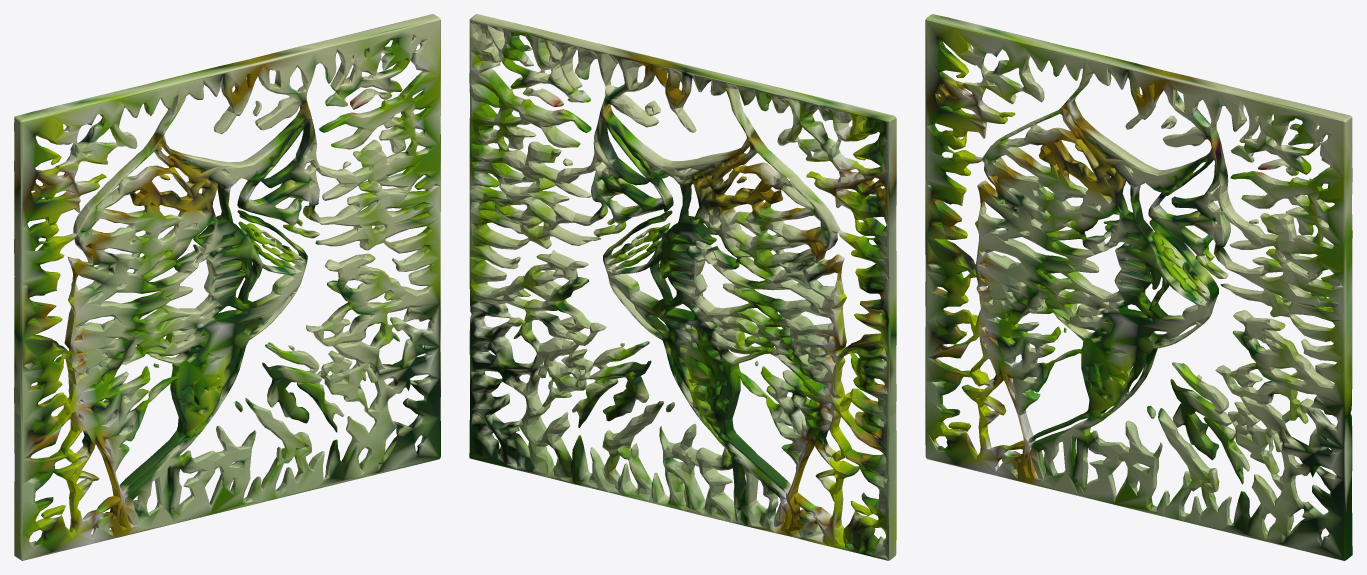
The model's file is mummy.glb.
The picture shows the model from 3 angles, left to right: view 1: azimuth 30°, elevation 25°; view 2: azimuth 150°, elevation 25°; view 3: azimuth 330°, elevation 25°; orthographic projection.
Visible parts, largest first — view 1: world; view 2: world; view 3: world.
Part boxes in pixels (<box>): world: <box>14,14,440,560</box>; world: <box>469,14,896,560</box>; world: <box>925,14,1352,560</box>.
Bounding box in the file's own units: 0.9991 × 1 × 0.0337.
